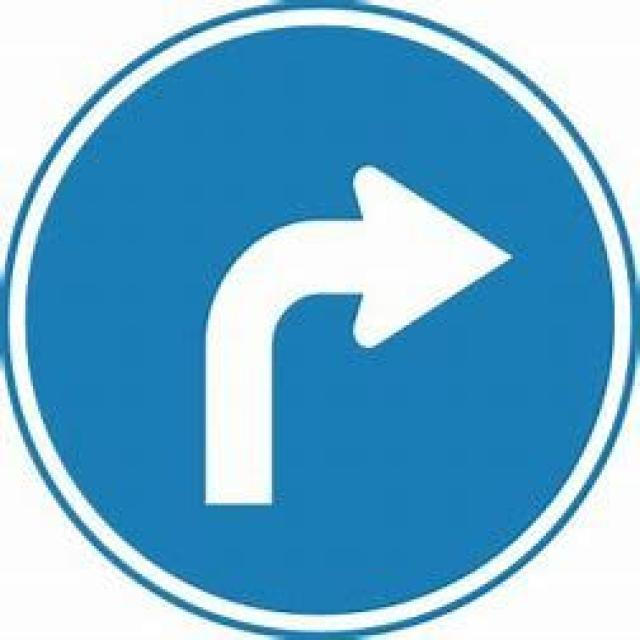compulsary turn right ahead: (27, 26, 614, 616)
